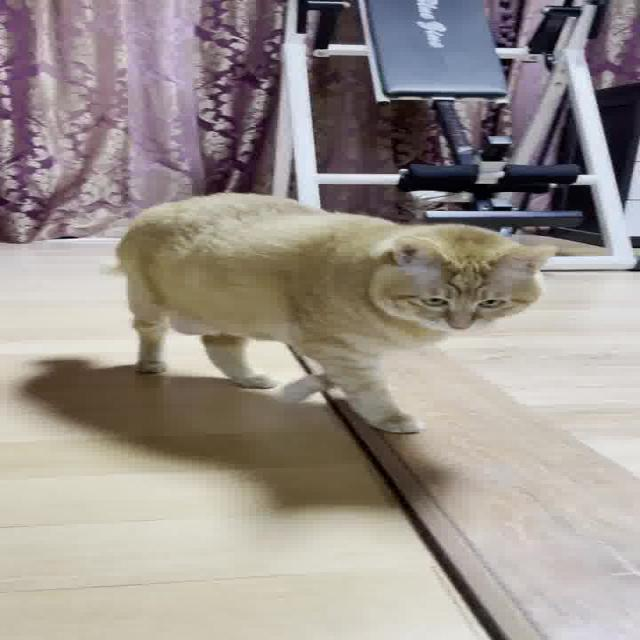cat: (48, 178, 588, 458)
